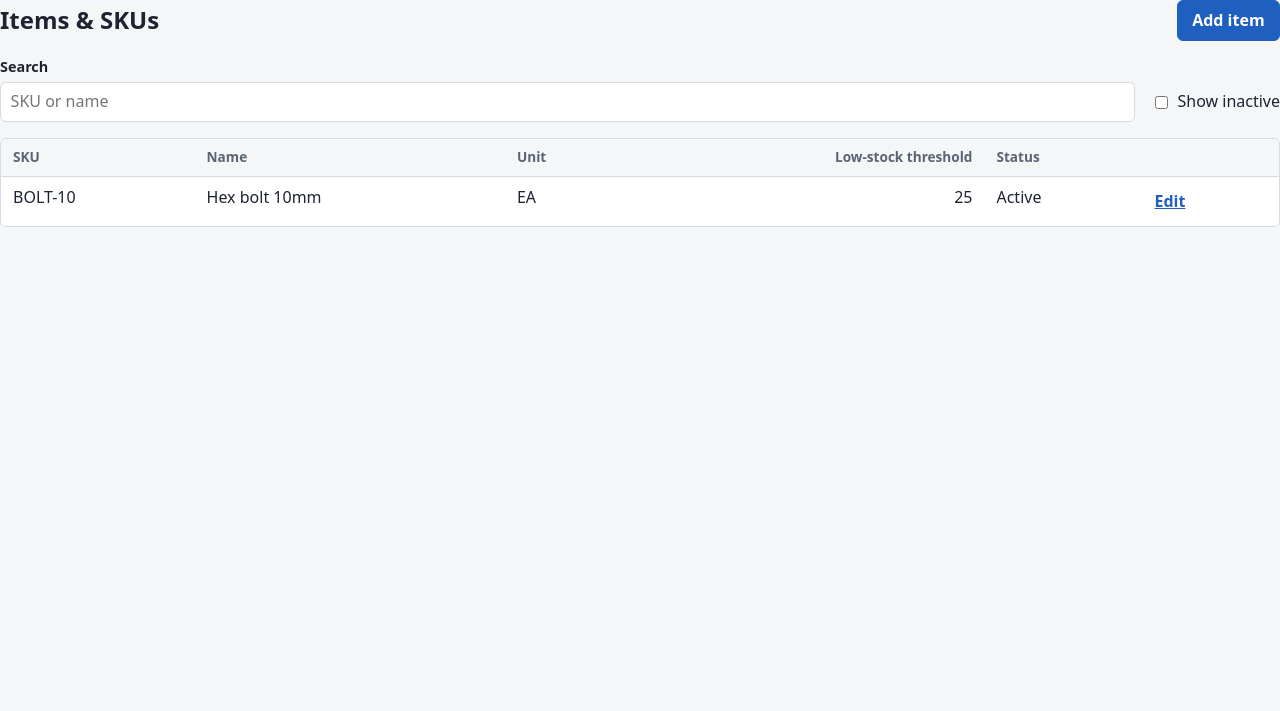
Scenario: ItemsPage › Add item form › shows a 409 conflict message and keeps the entered values
The width and height of the screenshot is (1280, 711).
Expected: the text "BOLT-10" is shown, [1,176,195,226]
Click the button "Add item".
click(1228, 21)  # box [1177,0,1279,41]
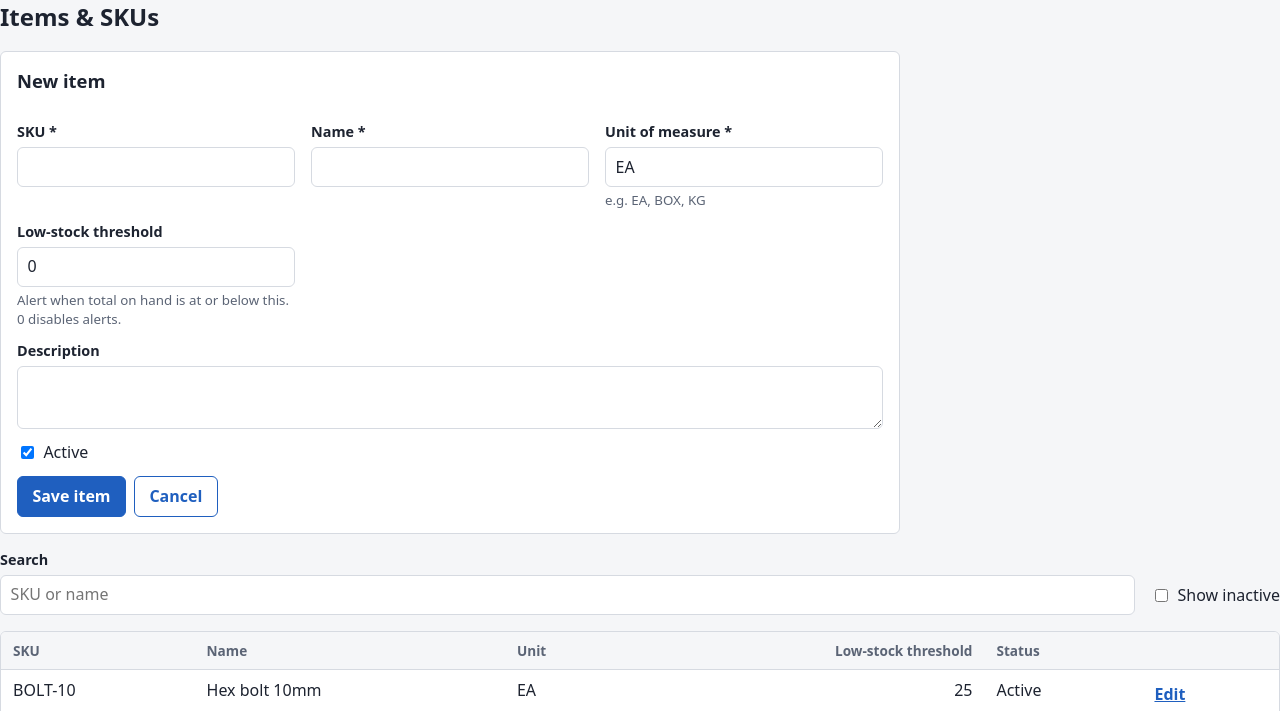
Expected: the heading "New item" is shown, [17,68,106,93]
Type "BOLT-10" into the field labelled "SKU *".
click(156, 167); type("BOLT-10")  # box [17,147,295,187]
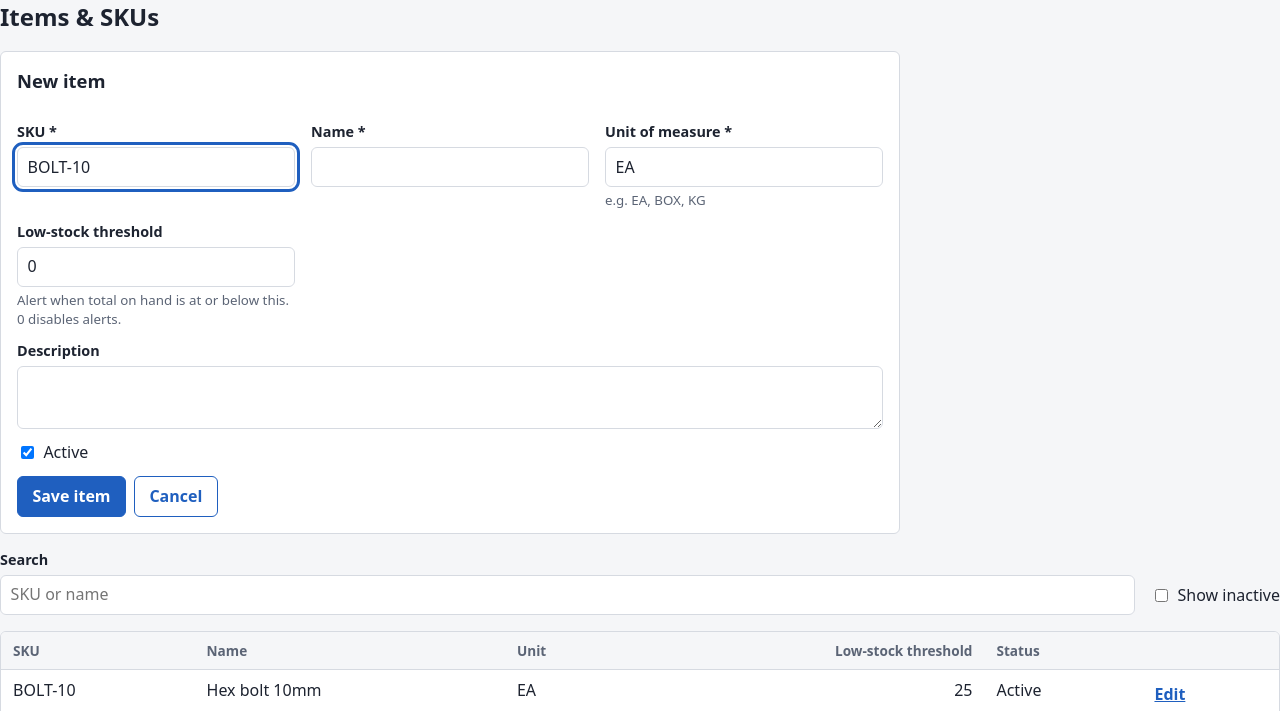
Type "Duplicate bolt" into the field labelled "Name *".
click(450, 167); type("Duplicate bolt")  # box [311,147,589,187]
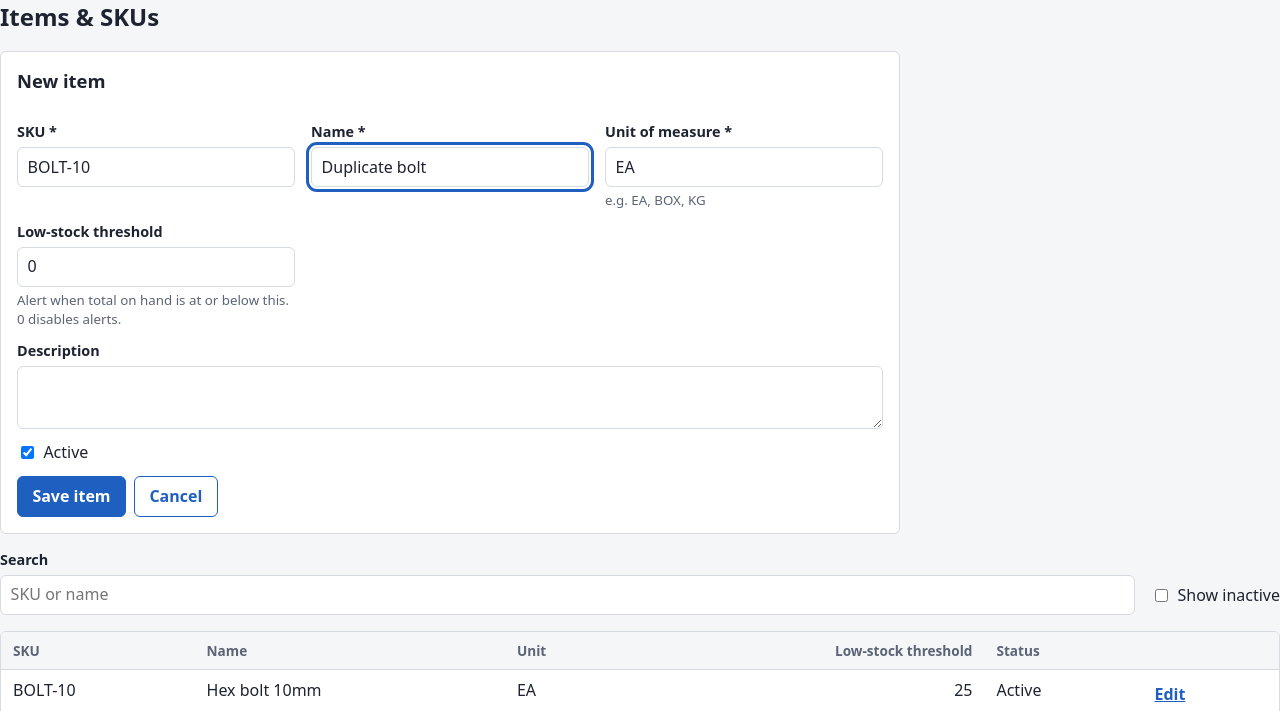
Click the button "Save item".
click(72, 497)  # box [17,476,126,517]
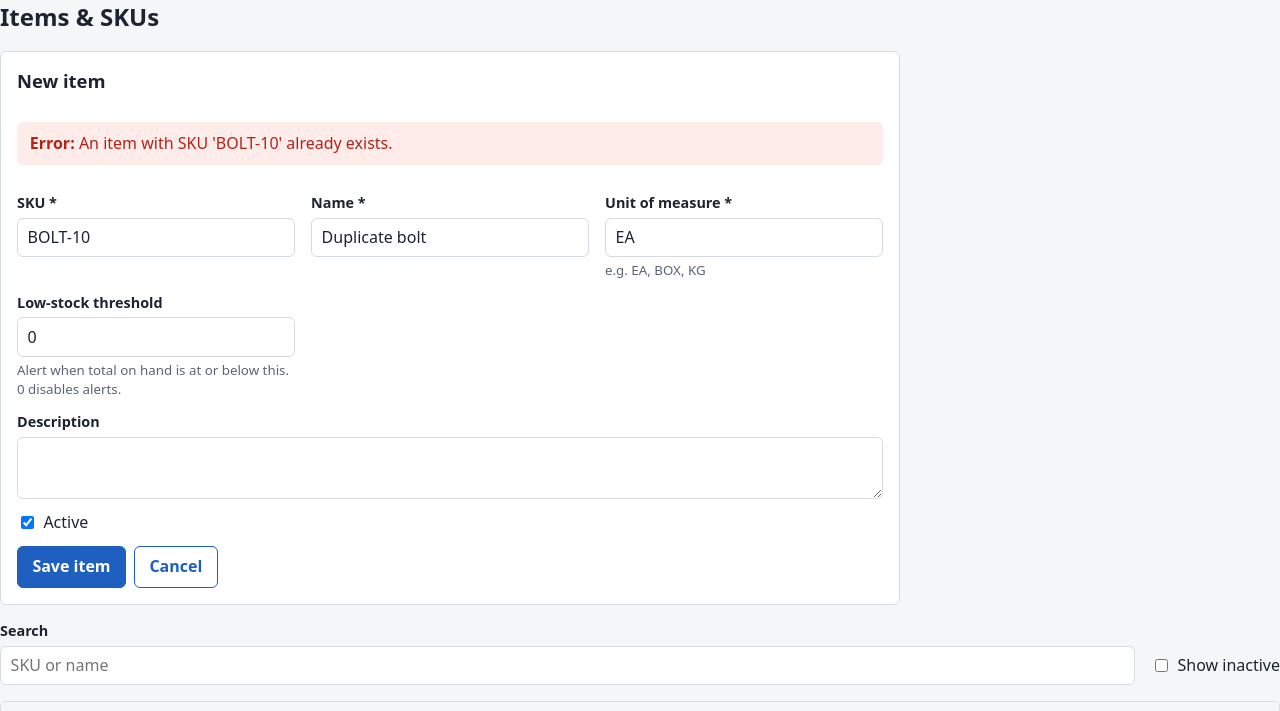
Expected: the heading "New item" is shown, [17,68,106,93]
Expected: the button "Save item" is enabled, [17,546,126,588]
Expected: the message shows "An item with SKU 'BOLT-10' already exists.", [79,132,393,154]
